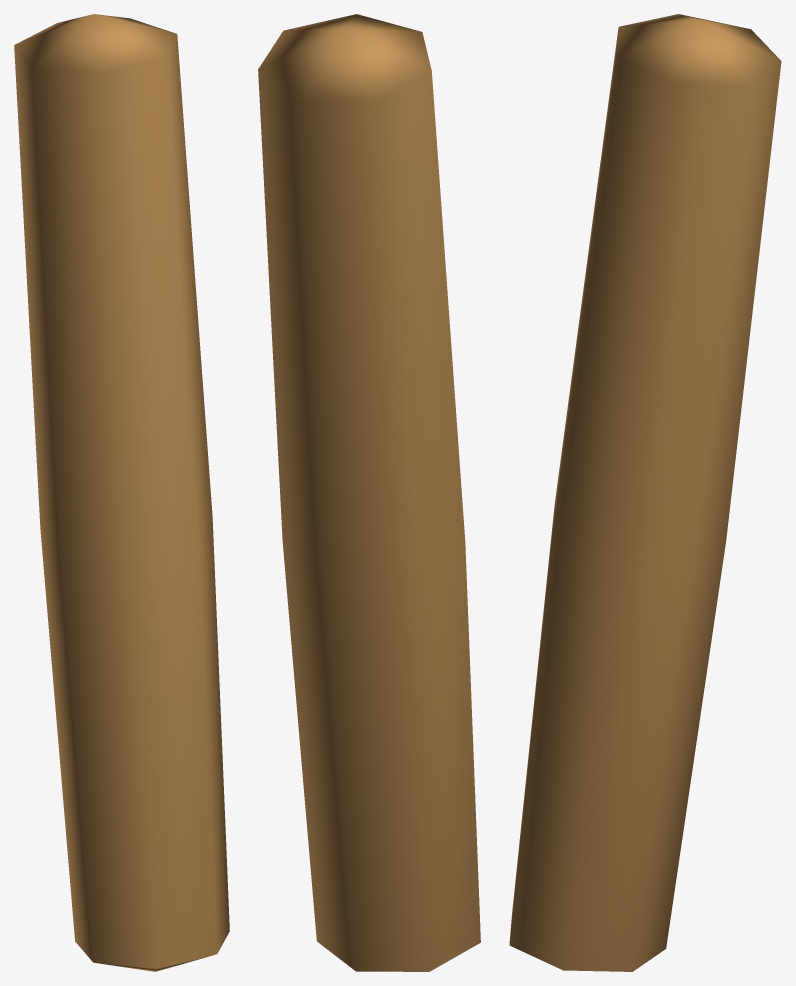
File: claw_T3_right_leg.obj
3 views of the same model, side by side, from view 1: azimuth 30°, elevation 25°; view 2: azimuth 150°, elevation 25°; view 3: azimuth 270°, elevation 25° (orthographic). The views are drawn at different scales.
Bounding box in the file's own units: 0.00229 × 0.0134 × 0.00349.
